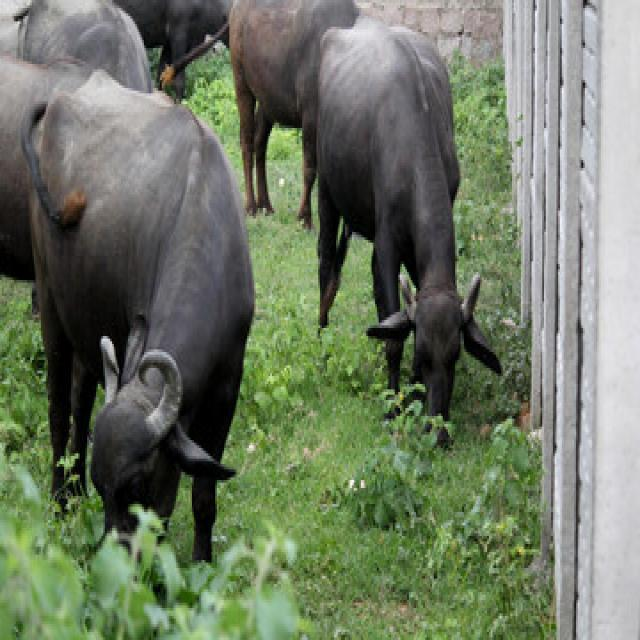Buffalo: (19, 65, 252, 560), (314, 12, 503, 434)
